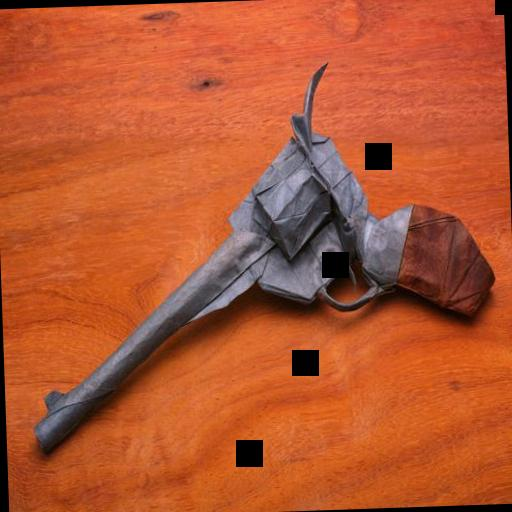Handgun: (18, 52, 500, 458)
